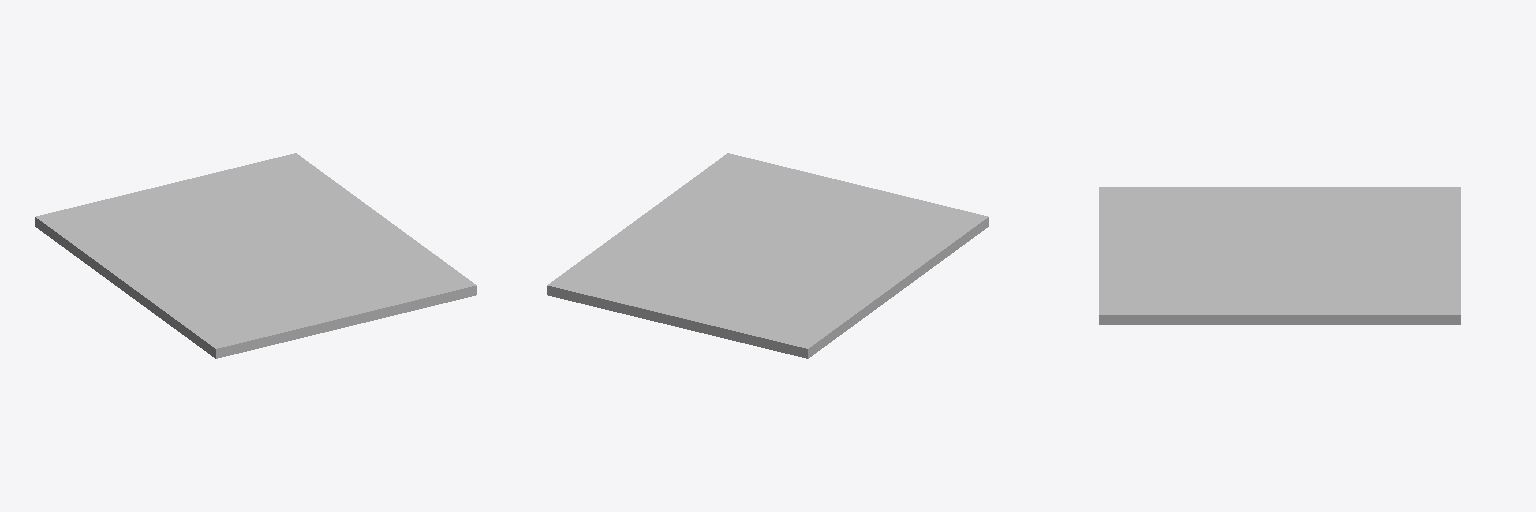
File: Tower_Block_Platform_6x5.obj
The picture shows the model from 3 angles: view 1: azimuth 30°, elevation 25°; view 2: azimuth 150°, elevation 25°; view 3: azimuth 270°, elevation 25°; orthographic projection.
Visible parts, largest first — view 1: Tower_Block_Platform_6x5; view 2: Tower_Block_Platform_6x5; view 3: Tower_Block_Platform_6x5.
Part boxes in pixels (bbox=[...]): Tower_Block_Platform_6x5: bbox=[35, 153, 476, 358]; Tower_Block_Platform_6x5: bbox=[547, 153, 988, 358]; Tower_Block_Platform_6x5: bbox=[1099, 187, 1460, 324].
Size of the model in its own units: 8.26 by 0.3 by 9.91.